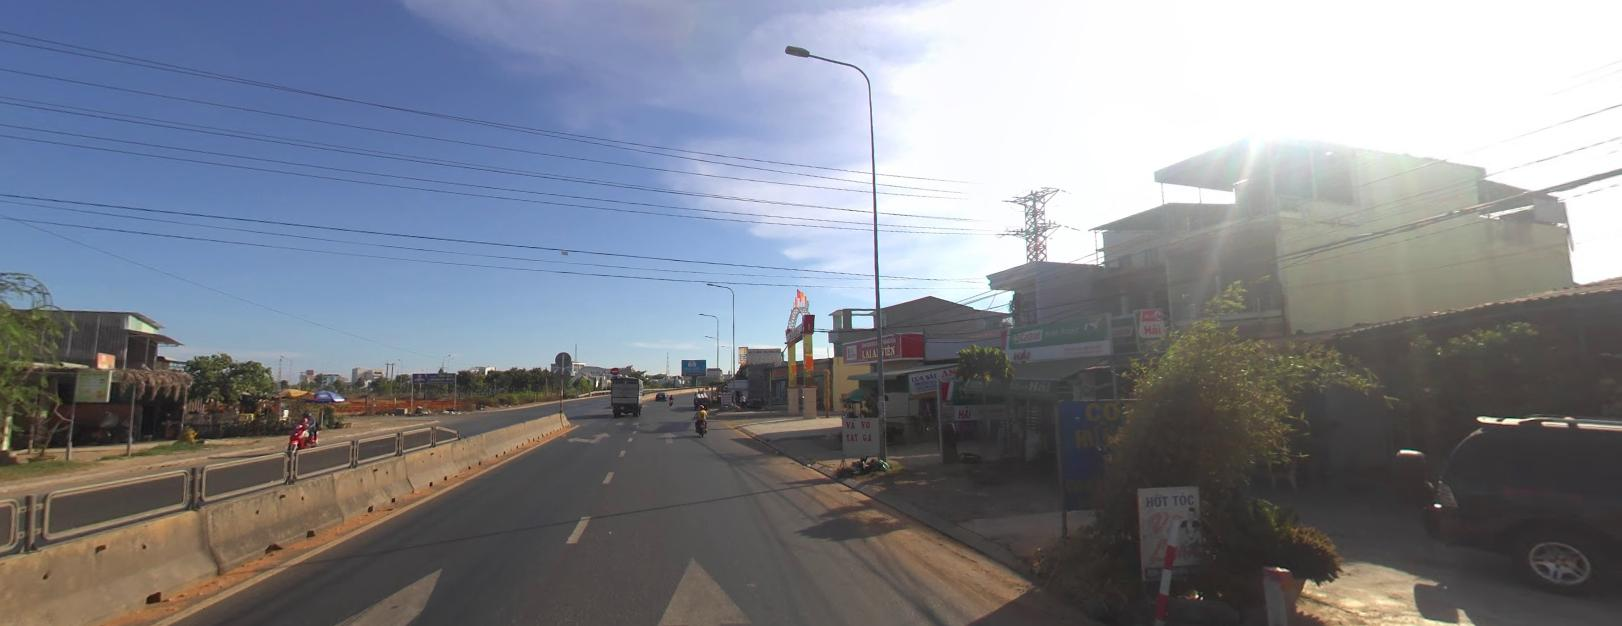Cam nguoc chieu: (610, 366, 618, 373), (611, 366, 618, 373), (610, 366, 617, 373), (611, 365, 618, 372), (611, 366, 618, 372), (610, 366, 617, 372)
Hieu lenh: (610, 373, 618, 380), (610, 374, 618, 380)
